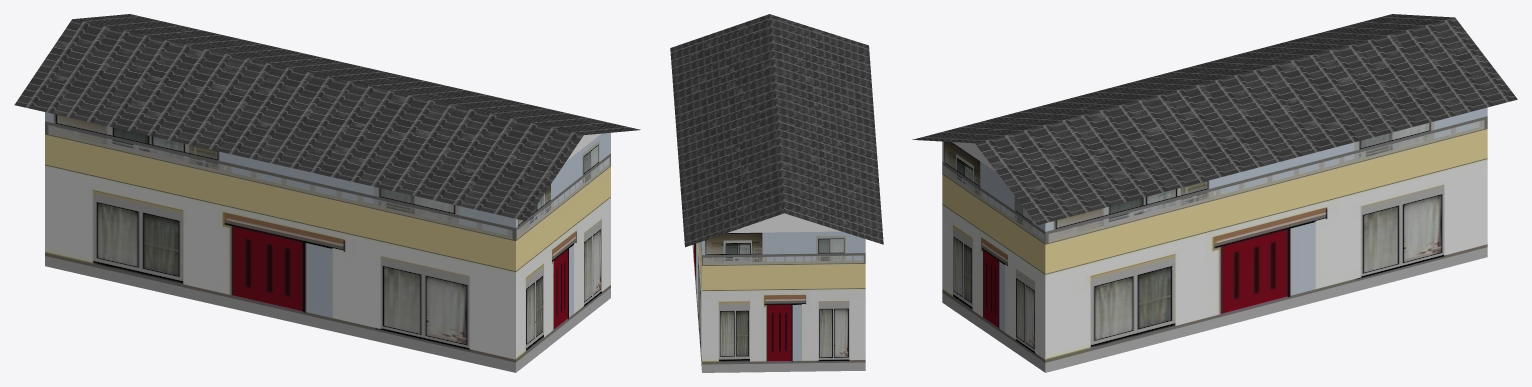
The picture shows the model from 3 angles, left to right: view 1: azimuth 30°, elevation 25°; view 2: azimuth 150°, elevation 25°; view 3: azimuth 270°, elevation 25°; orthographic projection. The views are drawn at different scales.
Parts seen in each view (by area): view 1: CityEngineMaterial_15_m, CityEngineMaterial_16_m; view 2: CityEngineMaterial_16_m, CityEngineMaterial_15_m, CityEngineMaterial_3_m; view 3: CityEngineMaterial_15_m, CityEngineMaterial_16_m.
Part boxes in pixels (box(x1,y1,x2,y2)): CityEngineMaterial_15_m: box(45, 112, 610, 372); CityEngineMaterial_16_m: box(14, 14, 640, 220); CityEngineMaterial_16_m: box(670, 14, 883, 247); CityEngineMaterial_15_m: box(692, 231, 865, 372); CityEngineMaterial_3_m: box(728, 213, 841, 232); CityEngineMaterial_15_m: box(942, 107, 1487, 372); CityEngineMaterial_16_m: box(912, 14, 1517, 225).
Size of the model in its own units: 22.25 by 9.79 by 26.95.
